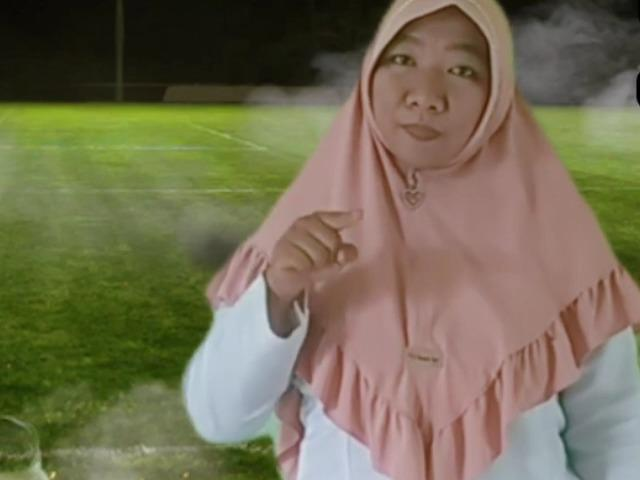Z: (264, 200, 378, 288)
